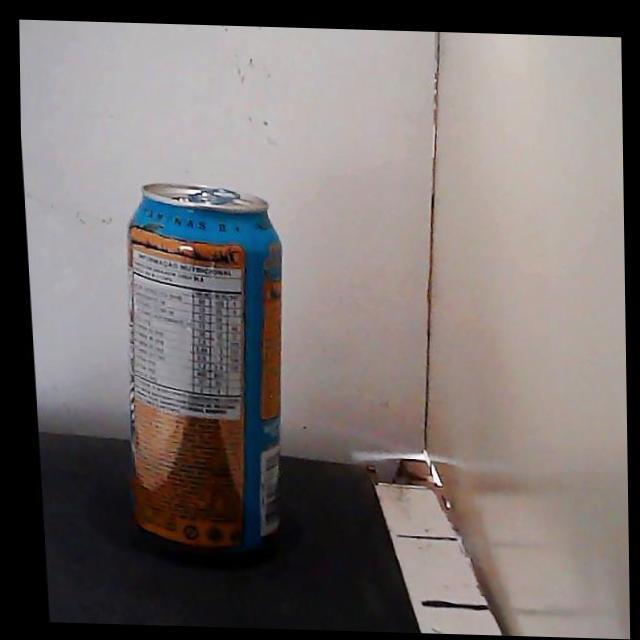metal: (129, 184, 281, 552)
